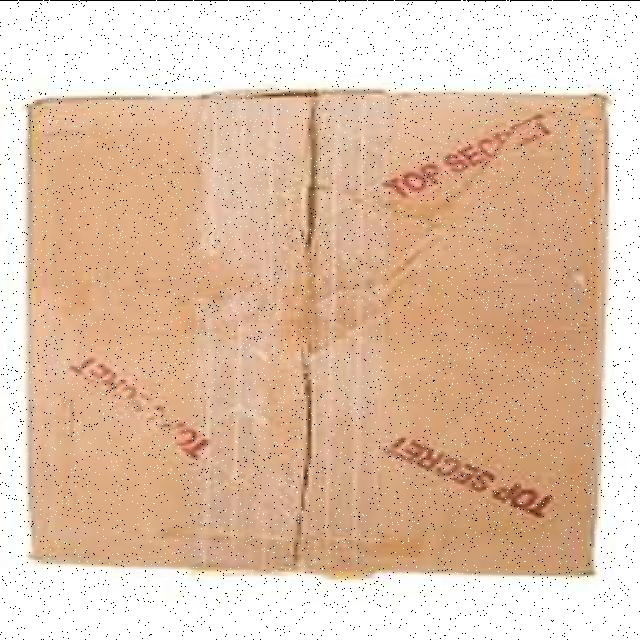normal: (23, 83, 617, 577)
